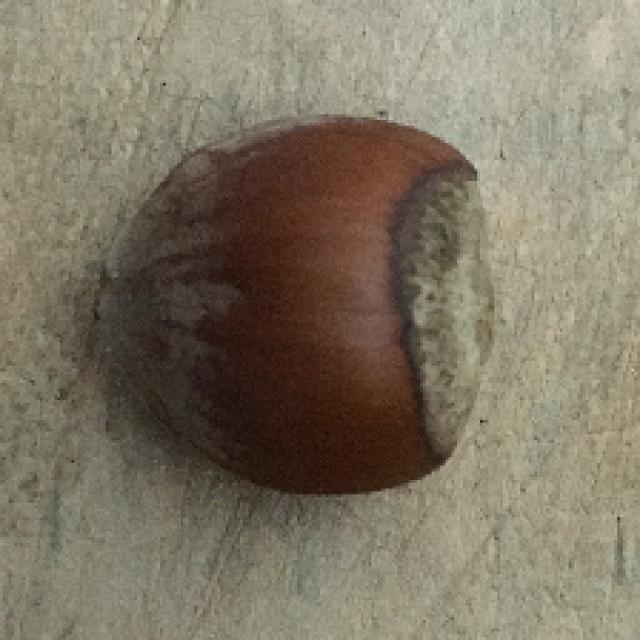qualityHazelnut: (102, 108, 498, 494)
